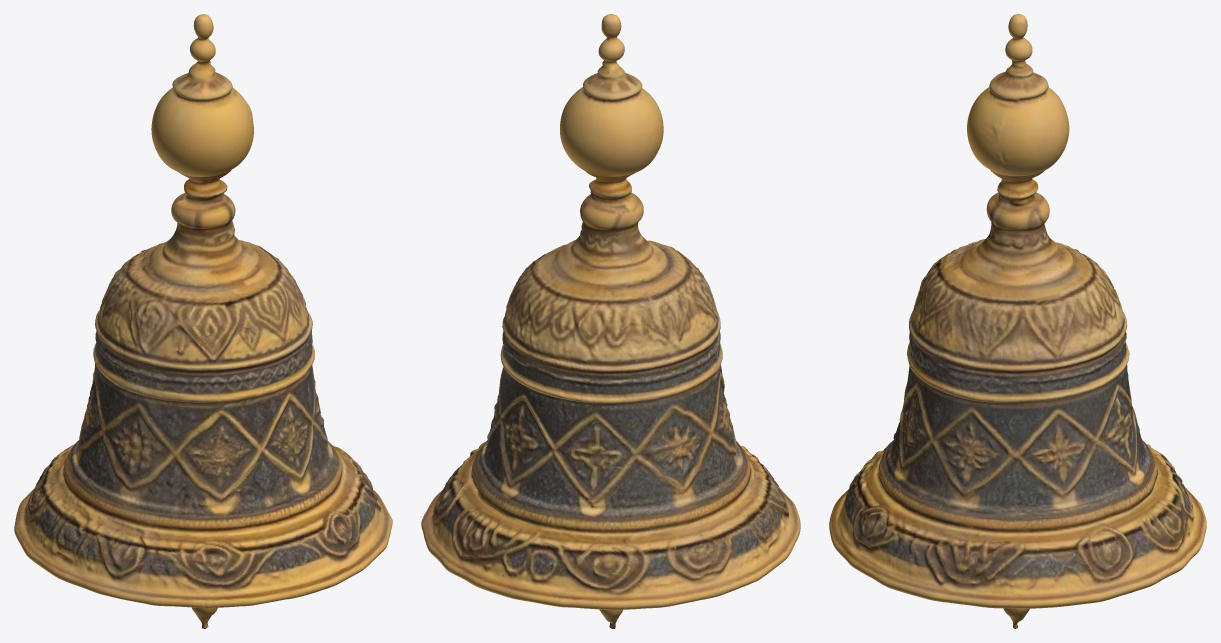
Rendered from bell.glb.
3 views of the same model, side by side, from view 1: azimuth 30°, elevation 25°; view 2: azimuth 150°, elevation 25°; view 3: azimuth 270°, elevation 25° (orthographic).
Size of the model in its own units: 1.11 by 2 by 1.12.
Materials: 1 (1 with a texture image).
